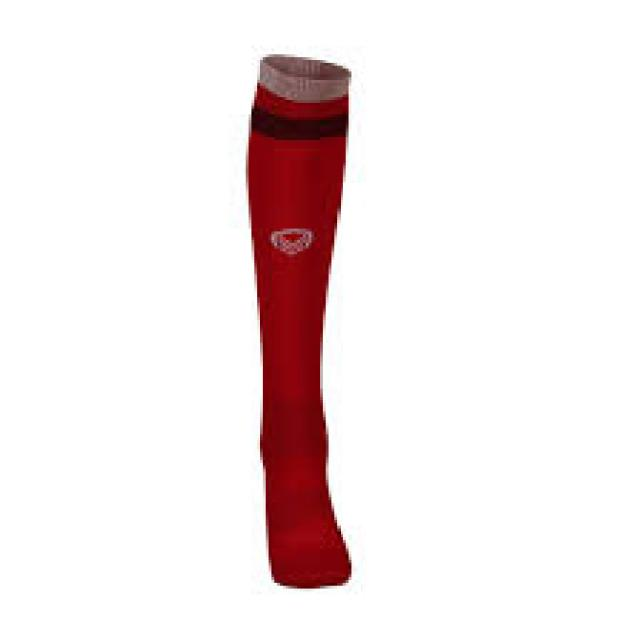sock: (243, 51, 351, 588)
